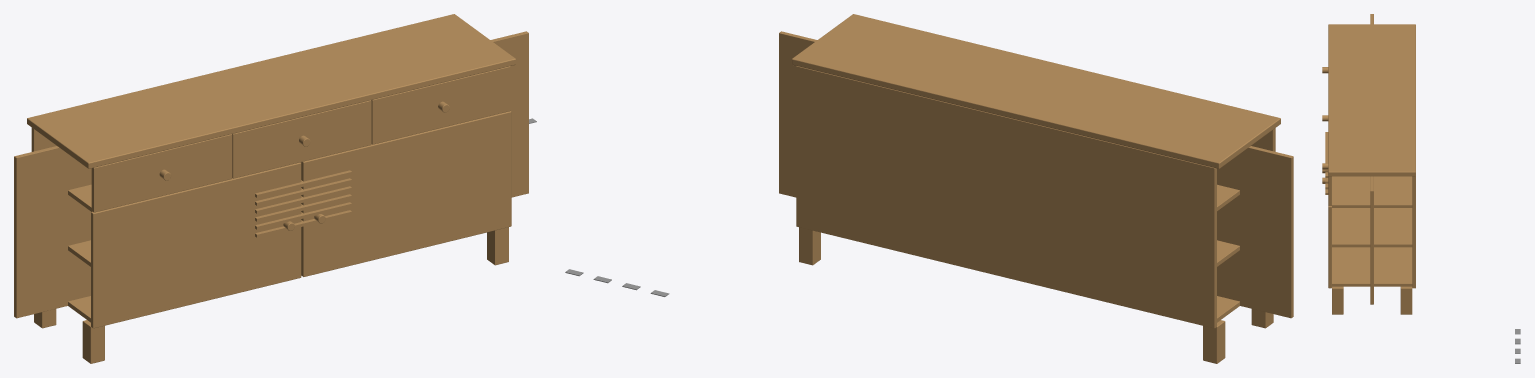
File: Oakley_sideboard.glb
3 views of the same model, side by side, from view 1: azimuth 30°, elevation 25°; view 2: azimuth 150°, elevation 25°; view 3: azimuth 270°, elevation 25° (orthographic). The views are drawn at different scales.
Parts seen in each view (by area): view 1: top, door_1, door_2, carcass.side_1, drawer.front_1, drawer.front_2, drawer.front_3, carcass.side_2, leg_1, leg_2, drawer.runner_3, drawer.runner_4 (+4 smaller); view 2: carcass.back, top, carcass.side_1, carcass.side_2, leg_3, leg_4; view 3: top, carcass.bottom, shelf.fixed, carcass.divider, carcass.side_2, carcass.back, leg_4, leg_2, door_2.
Part boxes in pixels (box(x1,y1,x2,y2)): top: box(27, 14, 515, 168); door_1: box(91, 162, 301, 328); door_2: box(301, 111, 511, 276); carcass.side_1: box(14, 146, 91, 318); drawer.front_1: box(91, 134, 232, 212); drawer.front_2: box(232, 100, 371, 178); drawer.front_3: box(371, 66, 510, 144); carcass.side_2: box(490, 31, 528, 197); leg_1: box(82, 320, 104, 363); leg_2: box(487, 227, 508, 265); drawer.runner_3: box(255, 194, 351, 221); drawer.runner_4: box(255, 186, 351, 213); carcass.back: box(796, 66, 1216, 328); top: box(791, 14, 1280, 168); carcass.side_1: box(1217, 146, 1293, 318); carcass.side_2: box(779, 31, 817, 197); leg_3: box(1203, 320, 1225, 363); leg_4: box(799, 227, 820, 265); top: box(1328, 24, 1415, 176); carcass.bottom: box(1332, 247, 1412, 286); shelf.fixed: box(1332, 208, 1412, 247); carcass.divider: box(1332, 176, 1412, 207); carcass.side_2: box(1370, 176, 1373, 304); carcass.back: box(1412, 176, 1415, 288); leg_4: box(1400, 286, 1412, 314); leg_2: box(1332, 286, 1343, 314); door_2: box(1328, 206, 1331, 288).
Size of the model in its own units: 2.62 by 0.82 by 1.02.
